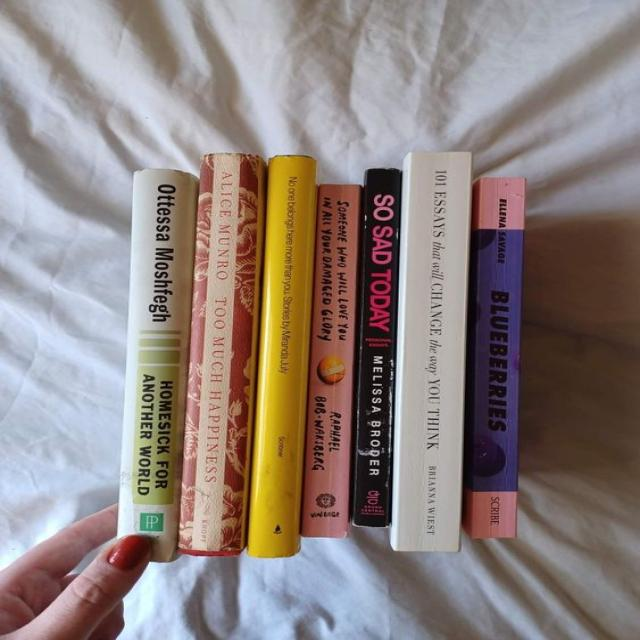book: (178, 155, 261, 552), (392, 152, 470, 552), (120, 171, 192, 562), (249, 156, 315, 557), (304, 183, 358, 538), (351, 167, 403, 528), (472, 178, 524, 538)
